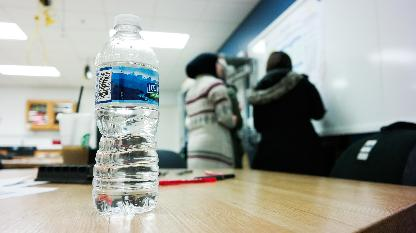Plastic Bottle: (94, 16, 160, 218)
